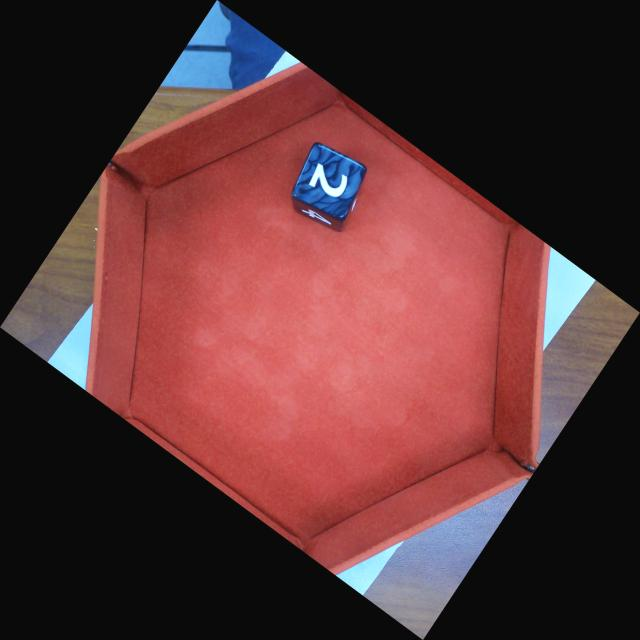dice: (292, 143, 370, 219)
